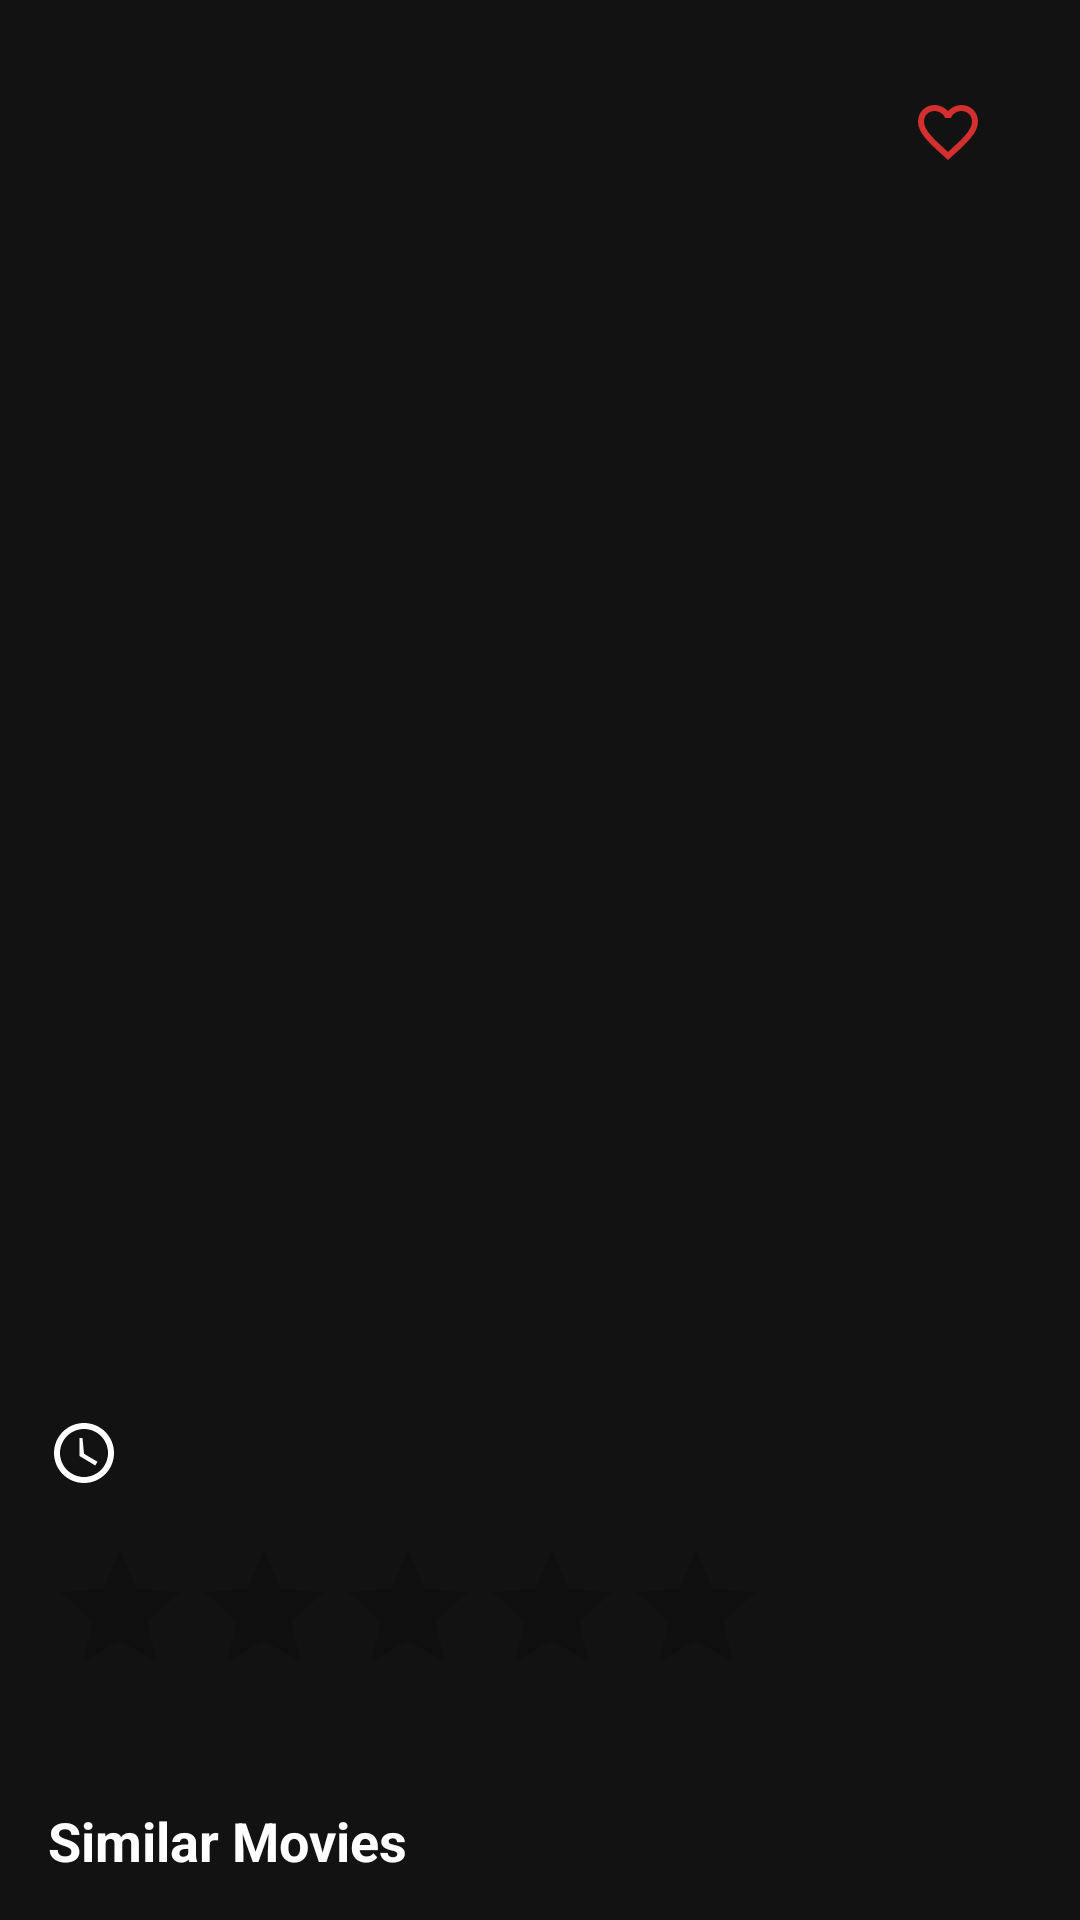

Where to tap for icons on this 1080×1920 app screen, as (x=x, y=y):
Favorite: (x=948, y=132)
